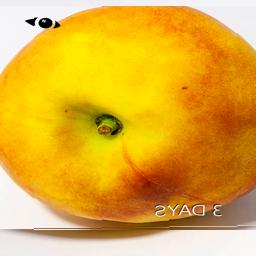Peach Fresh: (0, 7, 256, 231)
